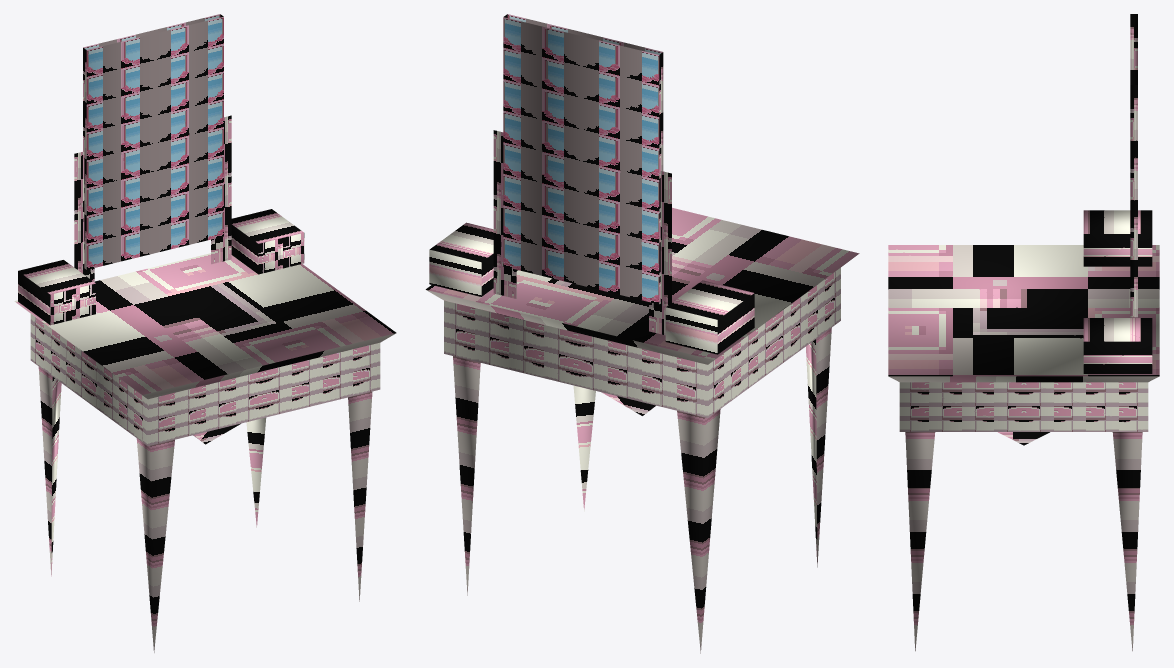
The model's file is 3081IMRL05_09.gltf.
3 renders of one model, left to right at view 1: azimuth 30°, elevation 25°; view 2: azimuth 150°, elevation 25°; view 3: azimuth 270°, elevation 25°, orthographic. The views are drawn at different scales.
Visible parts, largest first — view 1: 3081IMRL05_09; view 2: 3081IMRL05_09; view 3: 3081IMRL05_09.
Part boxes in pixels (bbox=[...]): 3081IMRL05_09: bbox=[14, 14, 396, 652]; 3081IMRL05_09: bbox=[425, 14, 859, 653]; 3081IMRL05_09: bbox=[888, 14, 1159, 651].
Size of the model in its own units: 0.9502 by 1.86 by 0.8301.
Materials: 3 (3 with a texture image).
